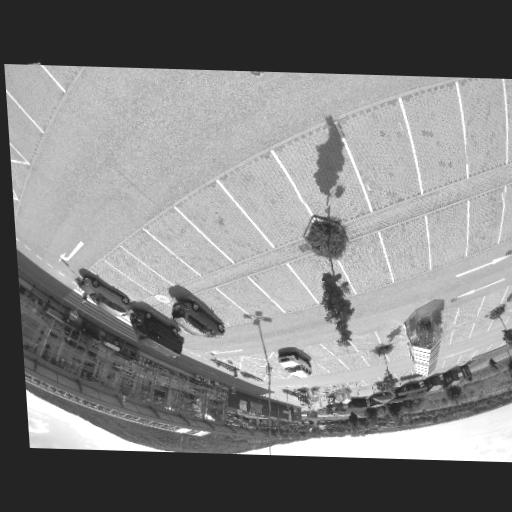busy: (168, 298, 228, 340), (80, 277, 130, 315), (275, 349, 316, 379)
free: (353, 123, 416, 189), (411, 102, 467, 173), (462, 87, 507, 159), (292, 151, 348, 207), (245, 180, 297, 222), (204, 210, 249, 242), (467, 201, 502, 240), (428, 218, 468, 252), (5, 62, 45, 94), (387, 233, 426, 263), (349, 250, 387, 279), (171, 230, 208, 258), (301, 263, 333, 289), (267, 278, 302, 301), (431, 309, 456, 334), (456, 300, 482, 322), (380, 325, 407, 345), (236, 289, 264, 306), (147, 251, 173, 269), (501, 189, 512, 224), (484, 287, 503, 307), (353, 334, 376, 350), (129, 263, 150, 280), (112, 274, 133, 290), (310, 345, 330, 361), (211, 299, 232, 313), (329, 340, 351, 353), (456, 324, 472, 338), (475, 317, 489, 331), (325, 359, 342, 370), (347, 356, 364, 367), (391, 346, 405, 359), (369, 354, 384, 365), (505, 279, 512, 300), (495, 312, 506, 325), (509, 299, 512, 320)
